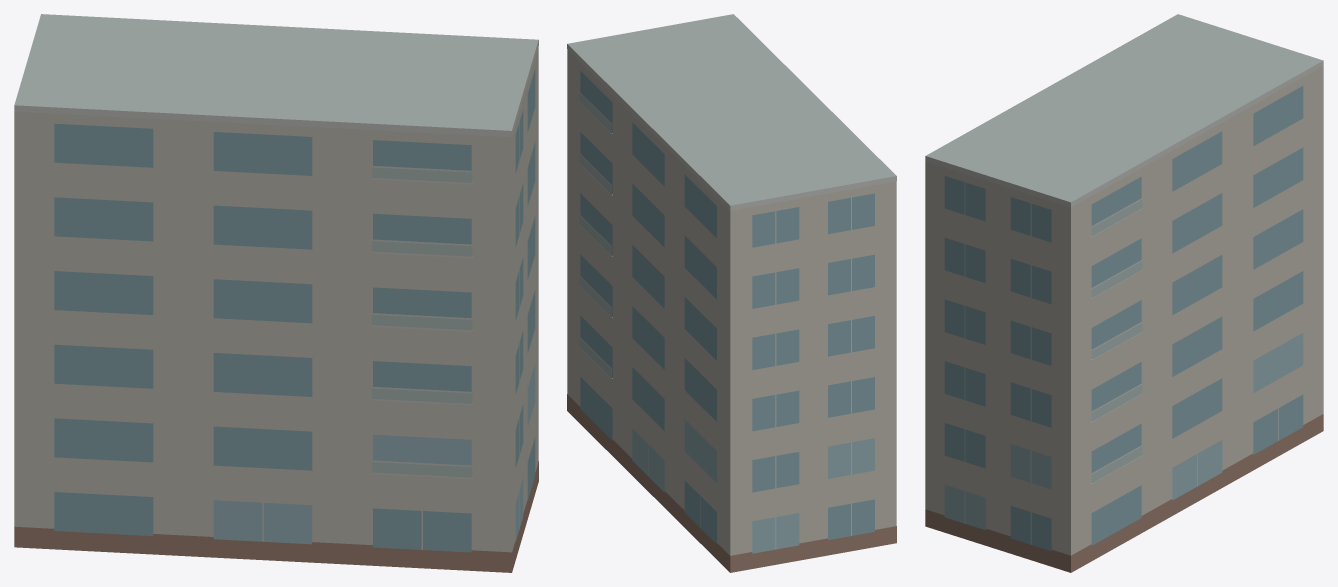
File: survey-upis-32974929.glb
3 views of the same model, side by side, from view 1: azimuth 30°, elevation 25°; view 2: azimuth 150°, elevation 25°; view 3: azimuth 270°, elevation 25° (orthographic). The views are drawn at different scales.
Parts seen in each view (by area): view 1: survey-upis-32974929.tmp; view 2: survey-upis-32974929.tmp; view 3: survey-upis-32974929.tmp.
Boxes of the visible parts, x1,y1,x2,y2 form: survey-upis-32974929.tmp: (14,14,538,572); survey-upis-32974929.tmp: (567,14,896,572); survey-upis-32974929.tmp: (925,14,1323,572).
Size of the model in its own units: 18.76 by 17.2 by 16.76.
